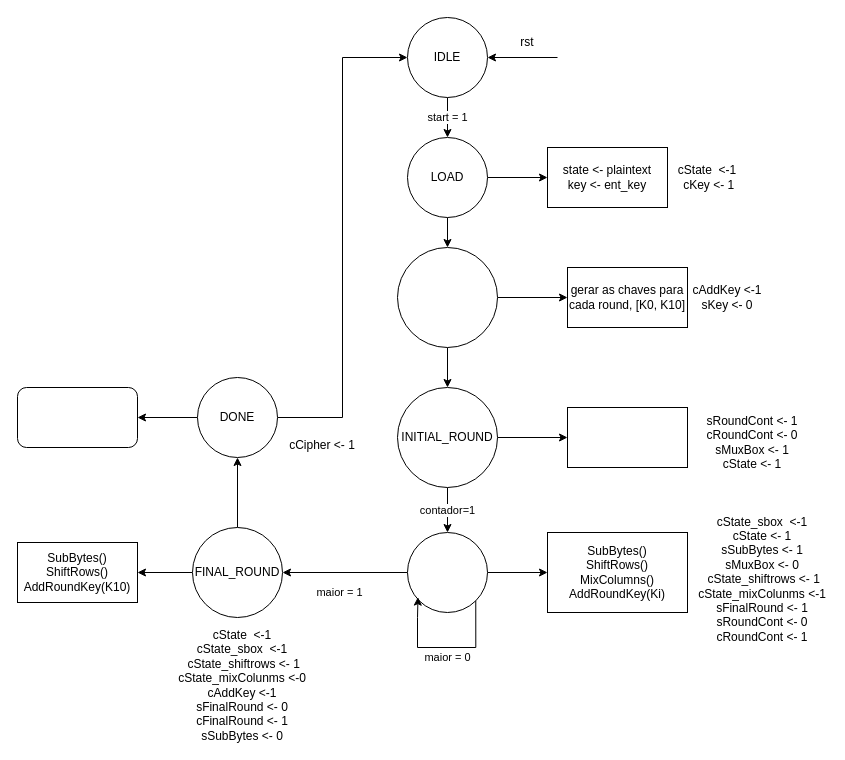
Image size: 845x760. Some labels were removed from this diagram. Each missing label, with the centre of its shape:
"AddRoundKey(K0)" belongs at (627,437).
"ciphertext <= state done <= 1" belongs at (77,417).
"KEY_EXPANSION" belongs at (447,297).
"ROUND" belongs at (447,572).
